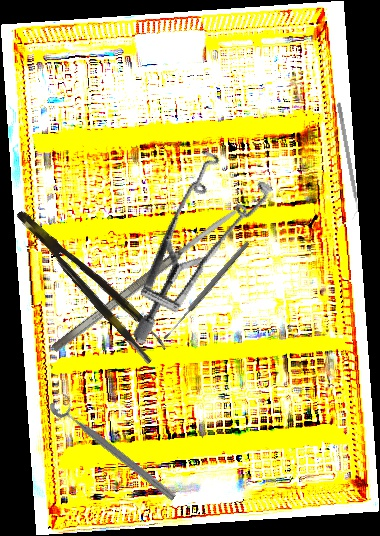Chopper: (330, 102, 362, 220)
Fixation Ring: (47, 389, 184, 505)
Spatula Surgical: (50, 206, 240, 354)
Speculum: (74, 131, 309, 346)
Surgical Spoon: (160, 239, 252, 342)
Tissue Forceps: (14, 197, 169, 366)
